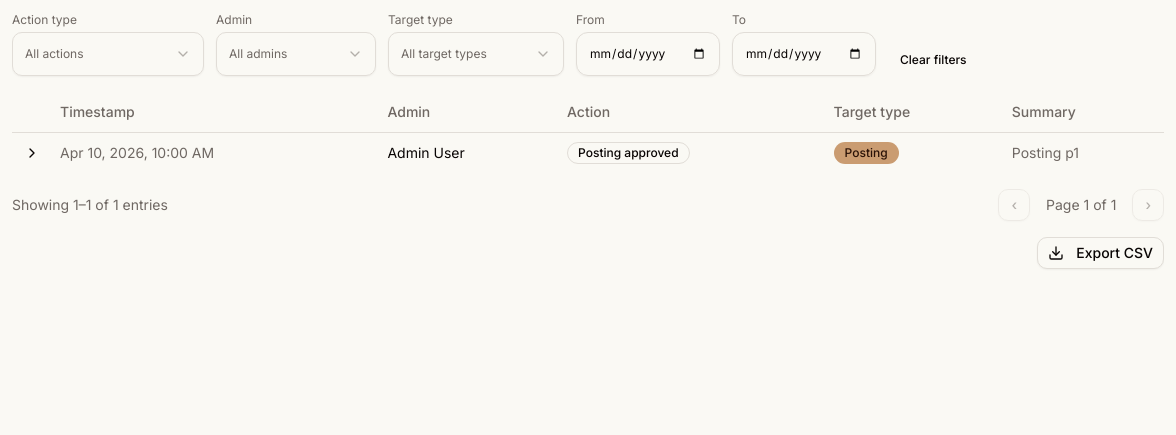
Scenario: AuditLogTable › expand/collapse row detail toggles aria-expanded
The image size is (1176, 435).
Click the button named "show details". click: (32, 152)
box: [20,140,44,164]
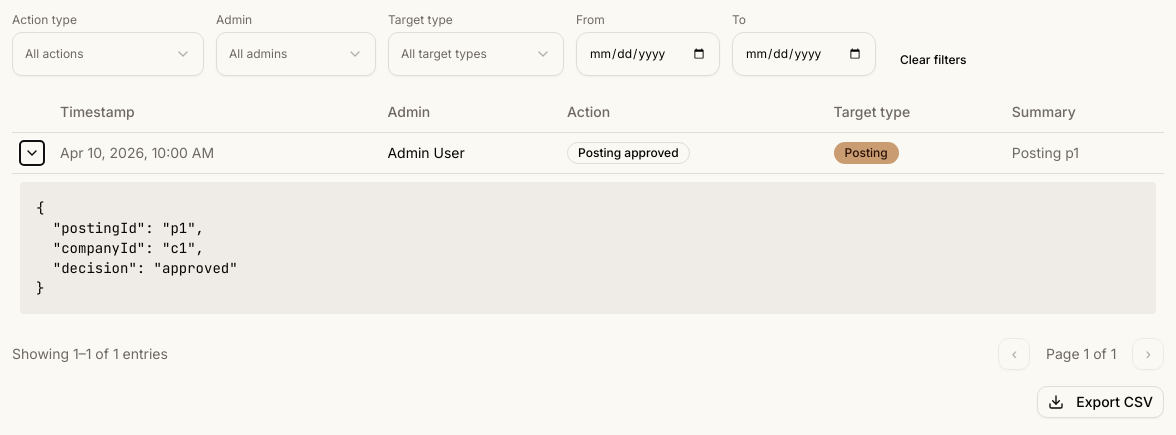
Check: the button named "show details" is expanded
Check: the text "\"postingId\": \"p1\"" is shown, box [36,198,238,296]
Click the button named "show details". click: (32, 152)
box: [20,140,44,164]
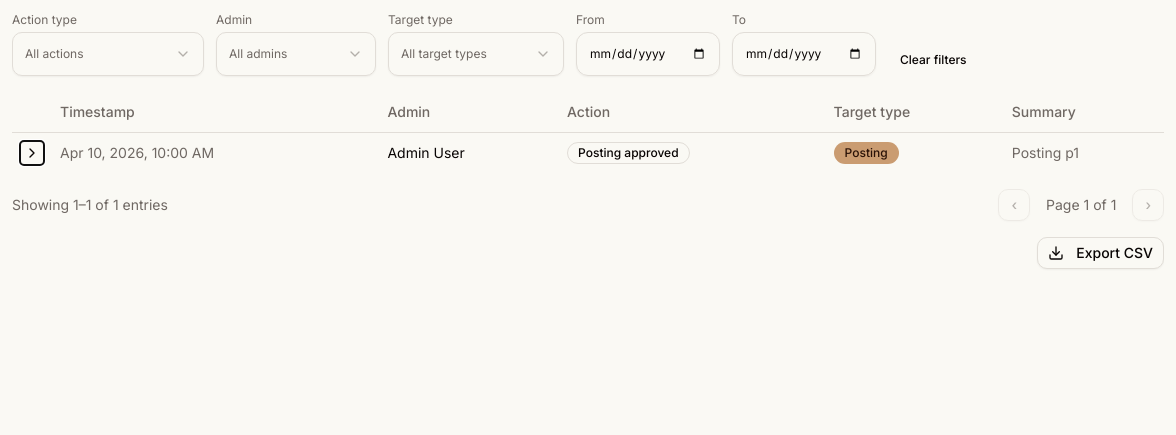
Check: the button named "show details" is collapsed, box [20,140,44,164]
